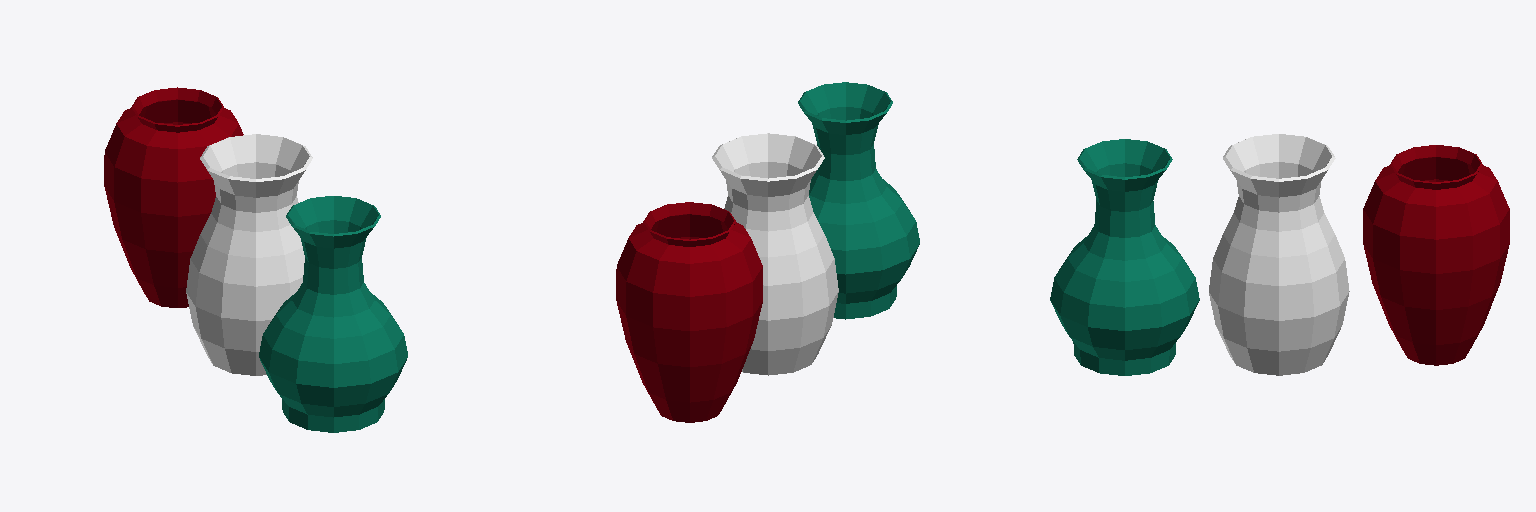
File: vase.obj
The picture shows the model from 3 angles: view 1: azimuth 30°, elevation 25°; view 2: azimuth 150°, elevation 25°; view 3: azimuth 270°, elevation 25°; orthographic projection.
Size of the model in its own units: 3.08 by 4.52 by 9.44.